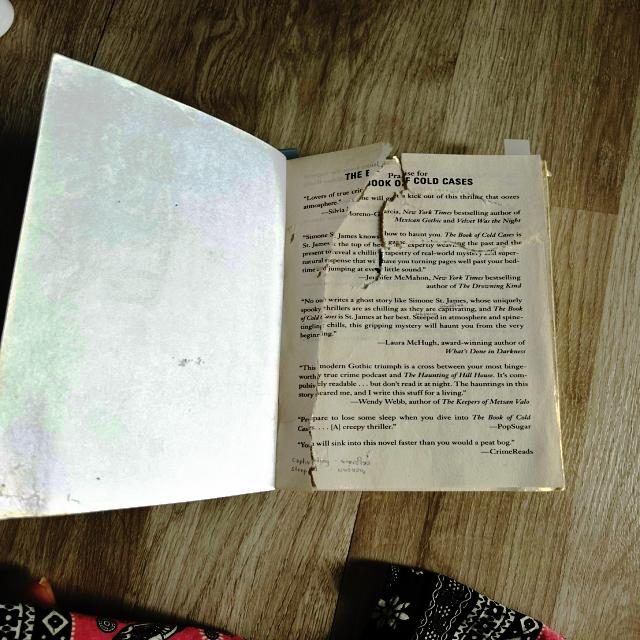Book: (0, 56, 291, 520), (277, 157, 568, 492)
